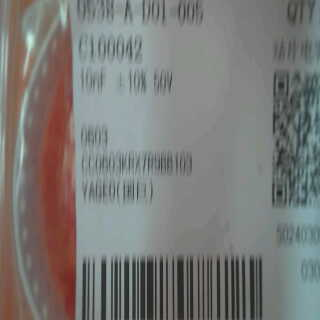10nF: (71, 69, 111, 97)
